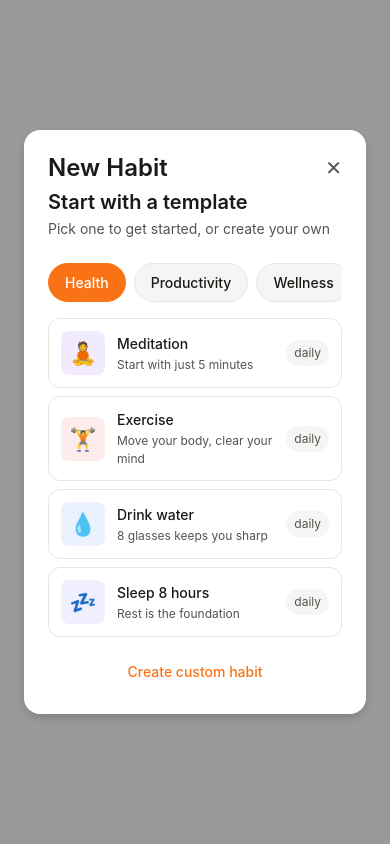
Test: CreateHabitScreen › renders the create form with correct title
The image size is (390, 844).
Click the button with test id "template-skip" at (195, 672), box [48,637,342,706]
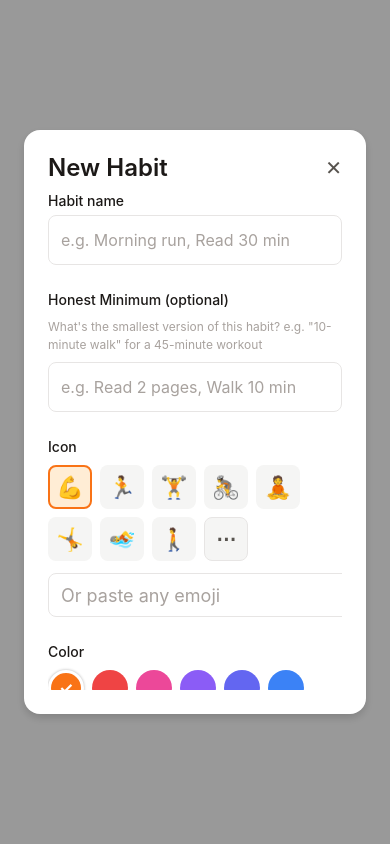
Expected: the text "New Habit" is shown, [48,153,168,182]
Result: the field named "Habit name" is shown at [48,215,342,265]
